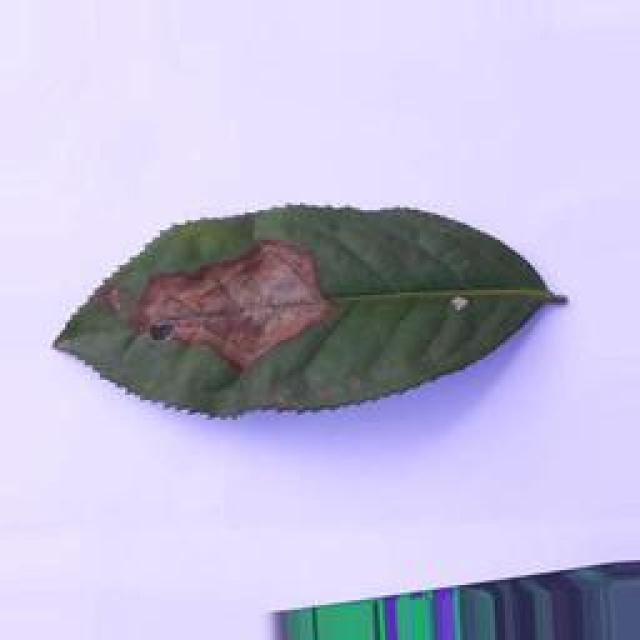Gray Blight: (46, 203, 564, 425)
